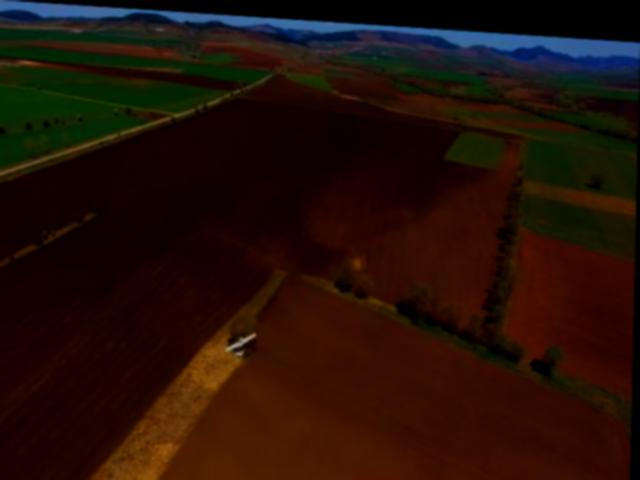uav: (221, 317, 266, 362)
